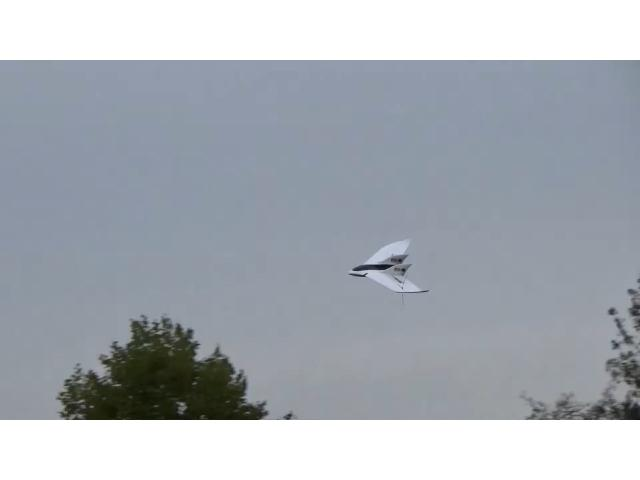Anti-Drone: (350, 239, 430, 292)
